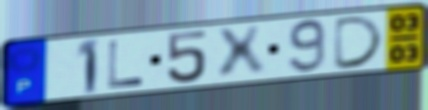1: (75, 38, 101, 96)
5: (165, 28, 209, 85)
9: (285, 16, 329, 77)
D: (331, 13, 388, 72)
L: (106, 39, 146, 90)
X: (213, 23, 269, 82)
